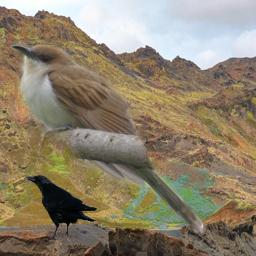Crow: (24, 174, 97, 240)
Cuckoo: (10, 44, 206, 235)
